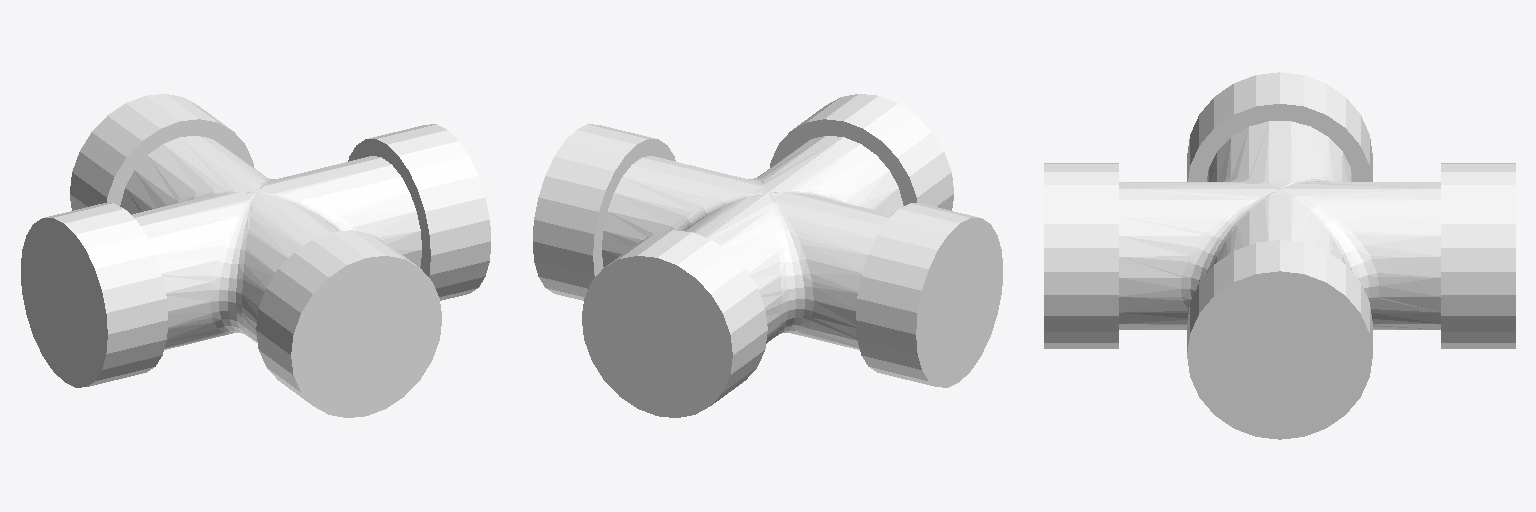
URDF robot description (biped_s32):
<?xml version='1.0' encoding='utf-8'?>
<robot name="biped_s32">
  <mujoco>
    <compiler meshdir="../meshes/" balanceinertia="true" discardvisual="false" />
  </mujoco>
  <link name="dummy_link" />
  <link name="base_link">
    <inertial>
      <origin xyz="-0.0185005 0.00031952 0.1929569" rpy="0 0 0" />
      <mass value="27.71433803" />
      <inertia ixx="0.93103133" ixy="0.00011763" ixz="-0.07210993" iyy="0.82590532" iyz="6.88e-06" izz="0.27686612" />
    </inertial>
    <visual>
      <origin xyz="0 0 0" rpy="0 0 0" />
      <geometry>
        <mesh filename="package://kuavo_assets/models/biped_s42/meshes/torso.STL" />
      </geometry>
      <material name="">
        <color rgba="1 1 1 1" />
      </material>
    </visual>
  </link>
  <joint name="base_link_to_dummy_link" type="fixed">
    <origin xyz="0 0 0" rpy="0 0 0" />
    <parent link="base_link" />
    <child link="dummy_link" />
  </joint>
  <link name="leg_l1_link">
    <inertial>
      <origin xyz="-0.00430148 -2.708e-05 -0.00851195" rpy="0 0 0" />
      <mass value="1.71093115" />
      <inertia ixx="0.00206092" ixy="1.97e-06" ixz="6.944e-05" iyy="0.00277274" iyz="-5.1e-06" izz="0.00370826" />
    </inertial>
    <visual>
      <origin xyz="0 0 0" rpy="0 0 0" />
      <geometry>
        <mesh filename="package://kuavo_assets/models/biped_s42/meshes/l_leg_roll.STL" />
      </geometry>
      <material name="">
        <color rgba="1 1 1 1" />
      </material>
    </visual>
  </link>
  <joint name="leg_l1_joint" type="revolute">
    <origin xyz="-0.0024999 0.087 -0.066" rpy="0 0 0" />
    <parent link="base_link" />
    <child link="leg_l1_link" />
    <axis xyz="1 0 0" />
    <limit lower="-0.314159265358979" upper="0.663225115757845" effort="180.0" velocity="23.55" />
  </joint>
  <link name="leg_l2_link">
    <inertial>
      <origin xyz="0.0 -0.00231118 -0.09062539" rpy="0 0 0" />
      <mass value="0.58029165" />
      <inertia ixx="0.00223984" ixy="0.0" ixz="3e-08" iyy="0.00123175" iyz="-6.98e-06" izz="0.00146391" />
    </inertial>
    <visual>
      <origin xyz="0 0 0" rpy="0 0 0" />
      <geometry>
        <mesh filename="package://kuavo_assets/models/biped_s42/meshes/l_leg_yaw.STL" />
      </geometry>
      <material name="">
        <color rgba="1 1 1 1" />
      </material>
    </visual>
  </link>
  <joint name="leg_l2_joint" type="revolute">
    <origin xyz="0 0 0" rpy="0 0 0" />
    <parent link="leg_l1_link" />
    <child link="leg_l2_link" />
    <axis xyz="0 0 1" />
    <limit lower="-0.872664625997165" upper="0.785398163397448" effort="100.0" velocity="41.3433333333333" />
  </joint>
  <link name="leg_l3_link">
    <inertial>
      <origin xyz="0.00150537 0.01199614 -0.08411619" rpy="0 0 0" />
      <mass value="4.50393141" />
      <inertia ixx="0.0389365" ixy="7.866e-05" ixz="0.00102086" iyy="0.03942609" iyz="0.00219138" izz="0.00999961" />
    </inertial>
    <visual>
      <origin xyz="0 0 0" rpy="0 0 0" />
      <geometry>
        <mesh filename="package://kuavo_assets/models/biped_s42/meshes/l_leg_pitch.STL" />
      </geometry>
      <material name="">
        <color rgba="1 1 1 1" />
      </material>
    </visual>
  </link>
  <joint name="leg_l3_joint" type="revolute">
    <origin xyz="0.000500354536093913 -0.00100000000000011 -0.1287" rpy="0 0 0" />
    <parent link="leg_l2_link" />
    <child link="leg_l3_link" />
    <axis xyz="0 1 0" />
    <limit lower="-2.00712863979348" upper="1.5707963267949" effort="100.0" velocity="41.3433333333333" />
  </joint>
  <link name="leg_l4_link">
    <inertial>
      <origin xyz="0.00696242 5.314e-05 -0.11549851" rpy="0 0 0" />
      <mass value="1.62776815" />
      <inertia ixx="0.01243912" ixy="-2.29e-06" ixz="5.881e-05" iyy="0.01229563" iyz="-2.895e-05" izz="0.00097937" />
    </inertial>
    <visual>
      <origin xyz="0 0 0" rpy="0 0 0" />
      <geometry>
        <mesh filename="package://kuavo_assets/models/biped_s42/meshes/l_knee.STL" />
      </geometry>
      <material name="">
        <color rgba="1 1 1 1" />
      </material>
    </visual>
  </link>
  <joint name="leg_l4_joint" type="revolute">
    <origin xyz="-6.87185435835039E-05 0 -0.284" rpy="0 0 0" />
    <parent link="leg_l3_link" />
    <child link="leg_l4_link" />
    <axis xyz="0 1 0" />
    <limit lower="0.0" upper="2.53072741539178" effort="180.0" velocity="23.55" />
  </joint>
  <link name="leg_l5_link">
    <inertial>
      <origin xyz="0.0 0.0 0.0" rpy="0 0 0" />
      <mass value="0.07193524" />
      <inertia ixx="6.92e-06" ixy="0.0" ixz="0.0" iyy="6.92e-06" iyz="0.0" izz="1.218e-05" />
    </inertial>
    <visual>
      <origin xyz="0 0 0" rpy="0 0 0" />
      <geometry>
        <mesh filename="package://kuavo_assets/models/biped_s42/meshes/l_foot_pitch.STL" />
      </geometry>
      <material name="">
        <color rgba="1 1 1 1" />
      </material>
    </visual>
  </link>
  <joint name="leg_l5_joint" type="revolute">
    <origin xyz="-0.000431635992531742 0 -0.346000000000001" rpy="0 0 0" />
    <parent link="leg_l4_link" />
    <child link="leg_l5_link" />
    <axis xyz="0 1 0" />
    <limit lower="-0.872664625997165" upper="0.349065850398866" effort="36.0" velocity="23.0266666666667" />
  </joint>
  <link name="leg_l6_link">
    <inertial>
      <origin xyz="0.03732754 -2.22e-06 -0.03883977" rpy="0 0 0" />
      <mass value="0.49861272" />
      <inertia ixx="0.00039242" ixy="3e-08" ixz="4.664e-05" iyy="0.00158655" iyz="0.0" izz="0.00172576" />
    </inertial>
    <visual>
      <origin xyz="0 0 0" rpy="0 0 0" />
      <geometry>
        <mesh filename="package://kuavo_assets/models/biped_s42/meshes/l_foot_roll.STL" />
      </geometry>
      <material name="">
        <color rgba="1 1 1 1" />
      </material>
    </visual>
  </link>
  <joint name="leg_l6_joint" type="revolute">
    <origin xyz="0 0 0" rpy="0 0 0" />
    <parent link="leg_l5_link" />
    <child link="leg_l6_link" />
    <axis xyz="1 0 0" />
    <limit lower="-0.261799387799149" upper="0.261799387799149" effort="36.0" velocity="23.0266666666667" />
  </joint>
  <link name="ll_foot_toe">
    <collision>
      <origin rpy="0 0 0" xyz="0 0 0" />
      <geometry>
        <sphere radius="0.005" />
      </geometry>
    </collision>
  </link>
  <joint name="ll_foot_toe_joint" type="fixed">
    <origin xyz="0.17084 0.04773 -0.0595" rpy="0 0 0" />
    <parent link="leg_l6_link" />
    <child link="ll_foot_toe" />
  </joint>
  <link name="ll_foot_heel">
    <collision>
      <origin rpy="0 0 0" xyz="0 0 0" />
      <geometry>
        <sphere radius="0.005" />
      </geometry>
    </collision>
  </link>
  <joint name="ll_foot_heel_joint" type="fixed">
    <origin xyz="-0.073164 0.04773 -0.0595" rpy="0 0 0" />
    <parent link="leg_l6_link" />
    <child link="ll_foot_heel" />
  </joint>
  <link name="lr_foot_toe">
    <collision>
      <origin rpy="0 0 0" xyz="0 0 0" />
      <geometry>
        <sphere radius="0.005" />
      </geometry>
    </collision>
  </link>
  <joint name="lr_foot_toe_joint" type="fixed">
    <origin xyz="0.17084 -0.04773 -0.0595" rpy="0 0 0" />
    <parent link="leg_l6_link" />
    <child link="lr_foot_toe" />
  </joint>
  <link name="lr_foot_heel">
    <collision>
      <origin rpy="0 0 0" xyz="0 0 0" />
      <geometry>
        <sphere radius="0.005" />
      </geometry>
    </collision>
  </link>
  <joint name="lr_foot_heel_joint" type="fixed">
    <origin xyz="-0.073164 -0.04773 -0.0595" rpy="0 0 0" />
    <parent link="leg_l6_link" />
    <child link="lr_foot_heel" />
  </joint>
  <link name="l_foot_toe">
    <collision>
      <origin rpy="0 0 0" xyz="0 0 0" />
      <geometry>
        <sphere radius="0.005" />
      </geometry>
    </collision>
  </link>
  <joint name="l_foot_toe_joint" type="fixed">
    <origin xyz="0.17084 0.0 -0.0595" rpy="0 0 0" />
    <parent link="leg_l6_link" />
    <child link="l_foot_toe" />
  </joint>
  <link name="l_foot_heel">
    <collision>
      <origin rpy="0 0 0" xyz="0 0 0" />
      <geometry>
        <sphere radius="0.005" />
      </geometry>
    </collision>
  </link>
  <joint name="l_foot_heel_joint" type="fixed">
    <origin xyz="-0.073164 0.0 -0.0595" rpy="0 0 0" />
    <parent link="leg_l6_link" />
    <child link="l_foot_heel" />
  </joint>
  <link name="leg_r1_link">
    <inertial>
      <origin xyz="-0.00430146 2.709e-05 -0.00851195" rpy="0 0 0" />
      <mass value="1.71093008" />
      <inertia ixx="0.00206092" ixy="-1.97e-06" ixz="6.944e-05" iyy="0.00277274" iyz="5.1e-06" izz="0.00370826" />
    </inertial>
    <visual>
      <origin xyz="0 0 0" rpy="0 0 0" />
      <geometry>
        <mesh filename="package://kuavo_assets/models/biped_s42/meshes/r_leg_roll.STL" />
      </geometry>
      <material name="">
        <color rgba="1 1 1 1" />
      </material>
    </visual>
  </link>
  <joint name="leg_r1_joint" type="revolute">
    <origin xyz="-0.0024999 -0.087 -0.066" rpy="0 0 0" />
    <parent link="base_link" />
    <child link="leg_r1_link" />
    <axis xyz="1 0 0" />
    <limit lower="-0.663225115757845" upper="0.314159265358979" effort="180.0" velocity="23.55" />
  </joint>
  <link name="leg_r2_link">
    <inertial>
      <origin xyz="0.0 0.00231118 -0.09062539" rpy="0 0 0" />
      <mass value="0.58029165" />
      <inertia ixx="0.00223984" ixy="0.0" ixz="-3e-08" iyy="0.00123175" iyz="6.98e-06" izz="0.00146391" />
    </inertial>
    <visual>
      <origin xyz="0 0 0" rpy="0 0 0" />
      <geometry>
        <mesh filename="package://kuavo_assets/models/biped_s42/meshes/r_leg_yaw.STL" />
      </geometry>
      <material name="">
        <color rgba="1 1 1 1" />
      </material>
    </visual>
  </link>
  <joint name="leg_r2_joint" type="revolute">
    <origin xyz="0 0 0" rpy="0 0 0" />
    <parent link="leg_r1_link" />
    <child link="leg_r2_link" />
    <axis xyz="0 0 1" />
    <limit lower="-0.785398163397448" upper="0.872664625997165" effort="100.0" velocity="41.3433333333333" />
  </joint>
  <link name="leg_r3_link">
    <inertial>
      <origin xyz="0.00208315 -0.01199644 -0.08411379" rpy="0 0 0" />
      <mass value="4.50385993" />
      <inertia ixx="0.03893478" ixy="-7.792e-05" ixz="0.00103064" iyy="0.03942522" iyz="-0.00219154" izz="0.01000016" />
    </inertial>
    <visual>
      <origin xyz="0 0 0" rpy="0 0 0" />
      <geometry>
        <mesh filename="package://kuavo_assets/models/biped_s42/meshes/r_leg_pitch.STL" />
      </geometry>
      <material name="">
        <color rgba="1 1 1 1" />
      </material>
    </visual>
  </link>
  <joint name="leg_r3_joint" type="revolute">
    <origin xyz="-4.88006581312577E-05 0 -0.1287" rpy="0 0 0" />
    <parent link="leg_r2_link" />
    <child link="leg_r3_link" />
    <axis xyz="0 1 0" />
    <limit lower="-2.00712863979348" upper="1.5707963267949" effort="100.0" velocity="41.3433333333333" />
  </joint>
  <link name="leg_r4_link">
    <inertial>
      <origin xyz="0.00743231 -5.343e-05 -0.11558701" rpy="0 0 0" />
      <mass value="1.62655699" />
      <inertia ixx="0.01241258" ixy="2.28e-06" ixz="6.289e-05" iyy="0.0122692" iyz="2.902e-05" izz="0.00097927" />
    </inertial>
    <visual>
      <origin xyz="0 0 0" rpy="0 0 0" />
      <geometry>
        <mesh filename="package://kuavo_assets/models/biped_s42/meshes/r_knee.STL" />
      </geometry>
      <material name="">
        <color rgba="1 1 1 1" />
      </material>
    </visual>
  </link>
  <joint name="leg_r4_joint" type="revolute">
    <origin xyz="0.000147138572785148 0 -0.283999982974744" rpy="0 0 0" />
    <parent link="leg_r3_link" />
    <child link="leg_r4_link" />
    <axis xyz="0 1 0" />
    <limit lower="0.0" upper="2.53072741539178" effort="180.0" velocity="23.55" />
  </joint>
  <link name="leg_r5_link">
    <inertial>
      <origin xyz="0.0 0.0 0.0" rpy="0 0 0" />
      <mass value="0.07193524" />
      <inertia ixx="6.92e-06" ixy="0.0" ixz="0.0" iyy="6.92e-06" iyz="0.0" izz="1.218e-05" />
    </inertial>
    <visual>
      <origin xyz="0 0 0" rpy="0 0 0" />
      <geometry>
        <mesh filename="package://kuavo_assets/models/biped_s42/meshes/r_foot_pitch.STL" />
      </geometry>
      <material name="">
        <color rgba="1 1 1 1" />
      </material>
    </visual>
  </link>
  <joint name="leg_r5_joint" type="revolute">
    <origin xyz="0.000119806050928577 0 -0.345999979257963" rpy="0 0 0" />
    <parent link="leg_r4_link" />
    <child link="leg_r5_link" />
    <axis xyz="0 1 0" />
    <limit lower="-0.872664625997165" upper="0.349065850398866" effort="36.0" velocity="23.0266666666667" />
  </joint>
  <link name="leg_r6_link">
    <inertial>
      <origin xyz="0.03734098 -2.22e-06 -0.03882684" rpy="0 0 0" />
      <mass value="0.49861272" />
      <inertia ixx="0.00039238" ixy="3e-08" ixz="4.618e-05" iyy="0.00158655" iyz="0.0" izz="0.00172579" />
    </inertial>
    <visual>
      <origin xyz="0 0 0" rpy="0 0 0" />
      <geometry>
        <mesh filename="package://kuavo_assets/models/biped_s42/meshes/r_foot_roll.STL" />
      </geometry>
      <material name="">
        <color rgba="1 1 1 1" />
      </material>
    </visual>
  </link>
  <joint name="leg_r6_joint" type="revolute">
    <origin xyz="0 0 0" rpy="0 0 0" />
    <parent link="leg_r5_link" />
    <child link="leg_r6_link" />
    <axis xyz="1 0 0" />
    <limit lower="-0.261799387799149" upper="0.261799387799149" effort="36.0" velocity="23.0266666666667" />
  </joint>
  <link name="rl_foot_toe">
    <collision>
      <origin rpy="0 0 0" xyz="0 0 0" />
      <geometry>
        <sphere radius="0.005" />
      </geometry>
    </collision>
  </link>
  <joint name="rl_foot_toe_joint" type="fixed">
    <origin xyz="0.17084 0.04773 -0.0595" rpy="0 0 0" />
    <parent link="leg_r6_link" />
    <child link="rl_foot_toe" />
  </joint>
  <link name="rl_foot_heel">
    <collision>
      <origin rpy="0 0 0" xyz="0 0 0" />
      <geometry>
        <sphere radius="0.005" />
      </geometry>
    </collision>
  </link>
  <joint name="rl_foot_heel_joint" type="fixed">
    <origin xyz="-0.073164 0.04773 -0.0595" rpy="0 0 0" />
    <parent link="leg_r6_link" />
    <child link="rl_foot_heel" />
  </joint>
  <link name="rr_foot_toe">
    <collision>
      <origin rpy="0 0 0" xyz="0 0 0" />
      <geometry>
        <sphere radius="0.005" />
      </geometry>
    </collision>
  </link>
  <joint name="rr_foot_toe_joint" type="fixed">
    <origin xyz="0.17084 -0.04773 -0.0595" rpy="0 0 0" />
    <parent link="leg_r6_link" />
    <child link="rr_foot_toe" />
  </joint>
  <link name="rr_foot_heel">
    <collision>
      <origin rpy="0 0 0" xyz="0 0 0" />
      <geometry>
        <sphere radius="0.005" />
      </geometry>
    </collision>
  </link>
  <joint name="rr_foot_heel_joint" type="fixed">
    <origin xyz="-0.073164 -0.04773 -0.0595" rpy="0 0 0" />
    <parent link="leg_r6_link" />
    <child link="rr_foot_heel" />
  </joint>
  <link name="r_foot_toe">
    <collision>
      <origin rpy="0 0 0" xyz="0 0 0" />
      <geometry>
        <sphere radius="0.005" />
      </geometry>
    </collision>
  </link>
  <joint name="r_foot_toe_joint" type="fixed">
    <origin xyz="0.17084 0.0 -0.0595" rpy="0 0 0" />
    <parent link="leg_r6_link" />
    <child link="r_foot_toe" />
  </joint>
  <link name="r_foot_heel">
    <collision>
      <origin rpy="0 0 0" xyz="0 0 0" />
      <geometry>
        <sphere radius="0.005" />
      </geometry>
    </collision>
  </link>
  <joint name="r_foot_heel_joint" type="fixed">
    <origin xyz="-0.073164 0.0 -0.0595" rpy="0 0 0" />
    <parent link="leg_r6_link" />
    <child link="r_foot_heel" />
  </joint>
  <link name="zarm_l1_link">
    <inertial>
      <origin xyz="0.008 -0.00158 0.0036" rpy="0 0 0" />
      <mass value="1.15" />
      <inertia ixx="0.0006" ixy="5e-05" ixz="1e-05" iyy="0.00048" iyz="-6e-05" izz="0.0007" />
    </inertial>
    <visual>
      <origin xyz="0 0 0" rpy="0 0 0" />
      <geometry>
        <mesh filename="package://kuavo_assets/models/biped_s42/meshes/l_arm_pitch.STL" />
      </geometry>
      <material name="">
        <color rgba="1 1 1 1" />
      </material>
    </visual>
  </link>
  <joint name="zarm_l1_joint" type="revolute">
    <origin xyz="-0.017499853 0.26686 0.4245" rpy="0 0 0" />
    <parent link="base_link" />
    <child link="zarm_l1_link" />
    <axis xyz="0 1 0" />
    <limit lower="-2.61799387799149" upper="0.523598775598299" effort="100.0" velocity="41.3433333333333" />
  </joint>
  <link name="zarm_r1_link">
    <inertial>
      <origin xyz="0.008 0.00158 -0.0036" rpy="0 0 0" />
      <mass value="1.15" />
      <inertia ixx="0.0006" ixy="-5e-05" ixz="-1e-05" iyy="0.00048" iyz="-6e-05" izz="0.0007" />
    </inertial>
    <visual>
      <origin xyz="0 0 0" rpy="0 0 0" />
      <geometry>
        <mesh filename="package://kuavo_assets/models/biped_s42/meshes/r_arm_pitch.STL" />
      </geometry>
      <material name="">
        <color rgba="1 1 1 1" />
      </material>
    </visual>
  </link>
  <joint name="zarm_r1_joint" type="revolute">
    <origin xyz="-0.017499853 -0.26686 0.4245" rpy="0 0 0" />
    <parent link="base_link" />
    <child link="zarm_r1_link" />
    <axis xyz="0 1 0" />
    <limit lower="-2.61799387799149" upper="0.523598775598299" effort="100.0" velocity="41.3433333333333" />
  </joint>
</robot>

--- Render facts (derived) ---
3 views of the same robot in one strip: view 1: azimuth 30°, elevation 25°; view 2: azimuth 150°, elevation 25°; view 3: azimuth 270°, elevation 25° (orthographic).
Robot: biped_s32 — 28 links, 27 joints (14 revolute, 13 fixed); root link base_link; default pose: every joint at zero.
Visible links, largest first — view 1: leg_l5_link; view 2: leg_l5_link; view 3: leg_l5_link.
Link boxes in pixels (<box>): leg_l5_link: <box>21,94,490,417</box>; leg_l5_link: <box>533,94,1002,417</box>; leg_l5_link: <box>1044,72,1515,439</box>.
Bounding box of the posed robot: 0.038 × 0.038 × 0.015 m (x, y, z).
1 mesh visuals loaded from 15 distinct referenced files (1 binary STL); not drawn: 14 (reference not matched to a file when rendering).